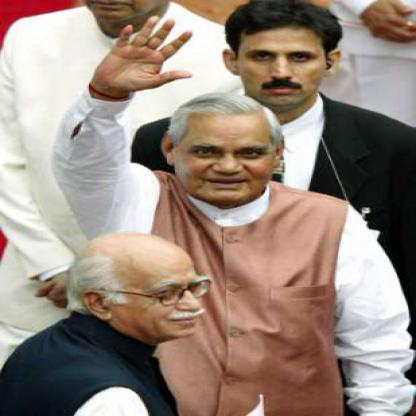face: (104, 237, 218, 343), (175, 98, 279, 204), (239, 4, 331, 107)
